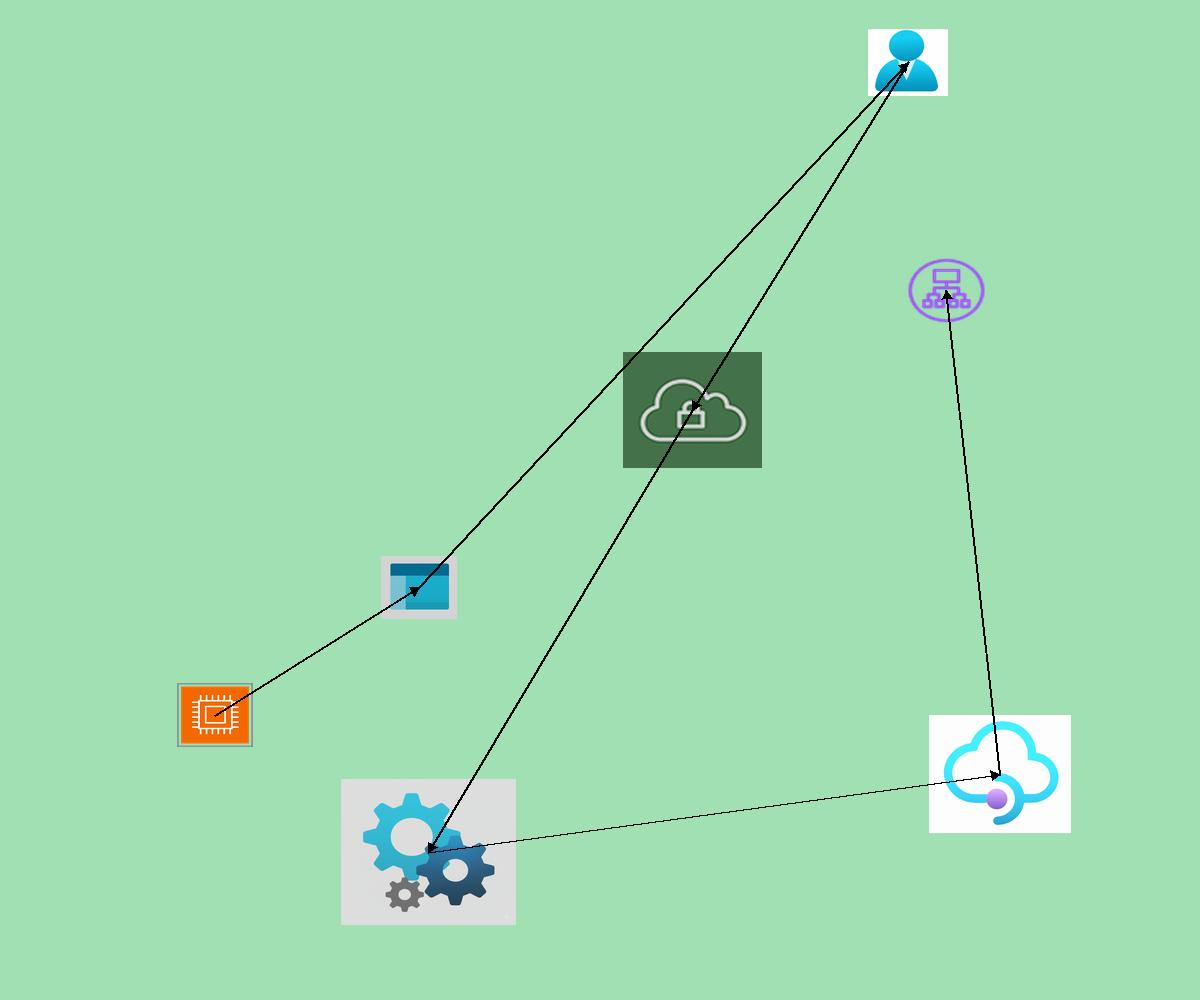AWS-Category_Compute: (177, 683, 253, 747)
AWS-Private_vpc: (623, 352, 762, 468)
AWS-Res_Elastic-Load-Balancing_Application-Load-Balancer: (905, 256, 988, 325)
Azure_api: (341, 779, 516, 925)
Azure_api_gateway: (929, 715, 1071, 833)
Azure_management-portal: (381, 556, 457, 619)
Azure_users: (868, 29, 948, 96)
